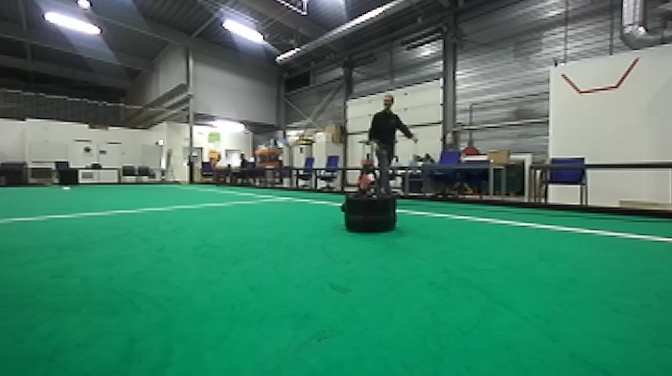human: (371, 87, 411, 195)
robot: (341, 137, 398, 239)
